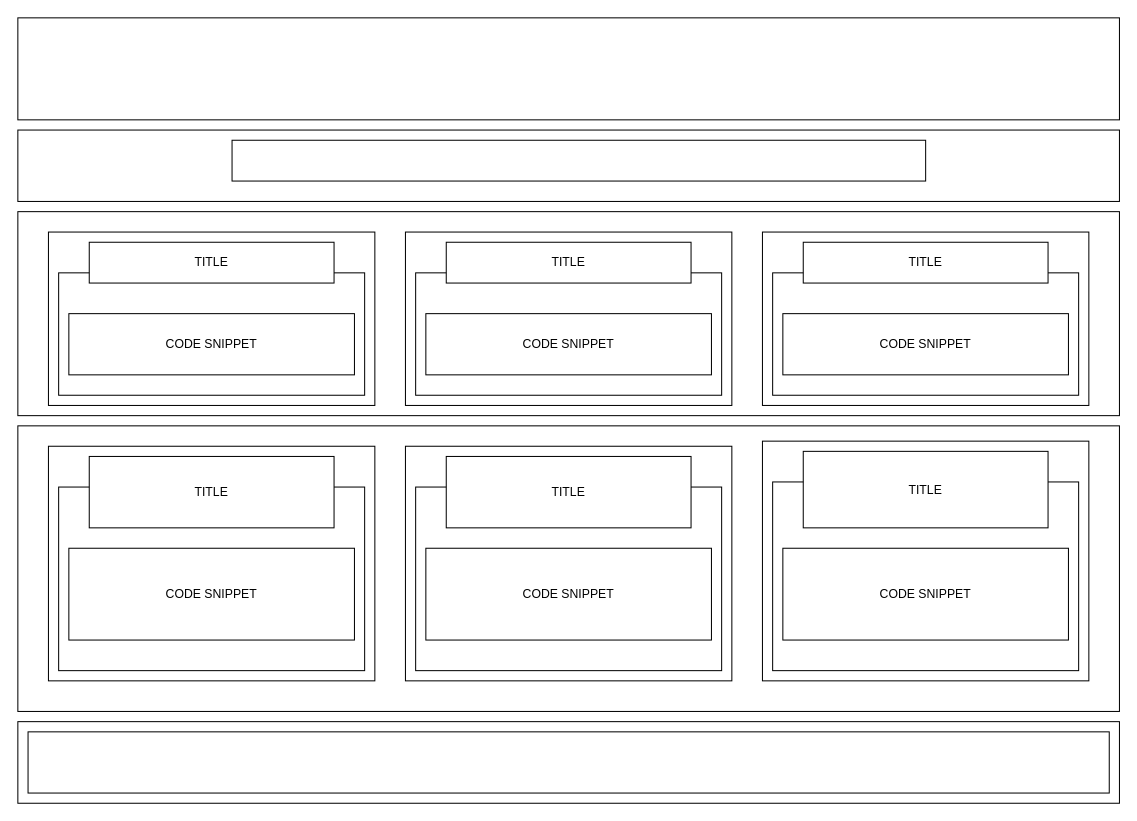
This 1137x821 diagram has some shape labels left out. The box of each missing label's shape, as (x1, y1, x2, y2) in pixels:
CSS Snippet Wireframe: (17, 17, 1119, 120)
Lorem ipsum: (231, 139, 926, 181)
